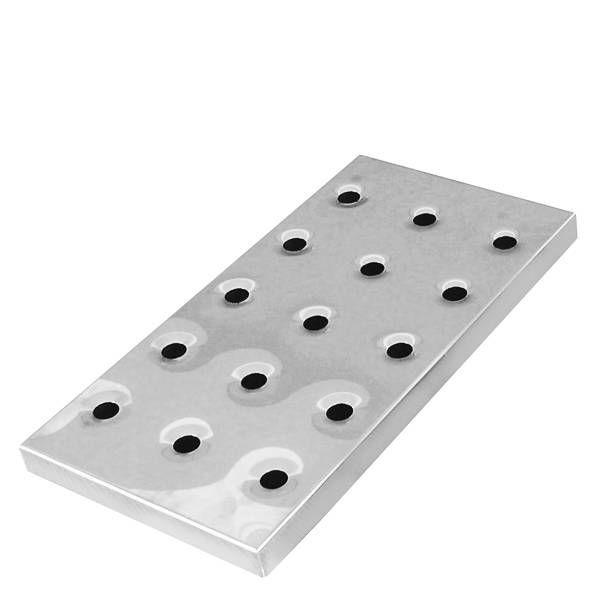hole: (86, 396, 126, 427), (252, 464, 290, 496), (168, 430, 206, 460), (380, 335, 414, 365), (320, 399, 356, 426), (278, 232, 312, 260), (441, 278, 470, 308), (358, 255, 388, 282), (334, 186, 364, 212), (158, 338, 189, 363), (224, 282, 253, 308), (241, 369, 268, 396), (490, 229, 518, 255), (301, 310, 331, 334), (409, 208, 438, 230)
